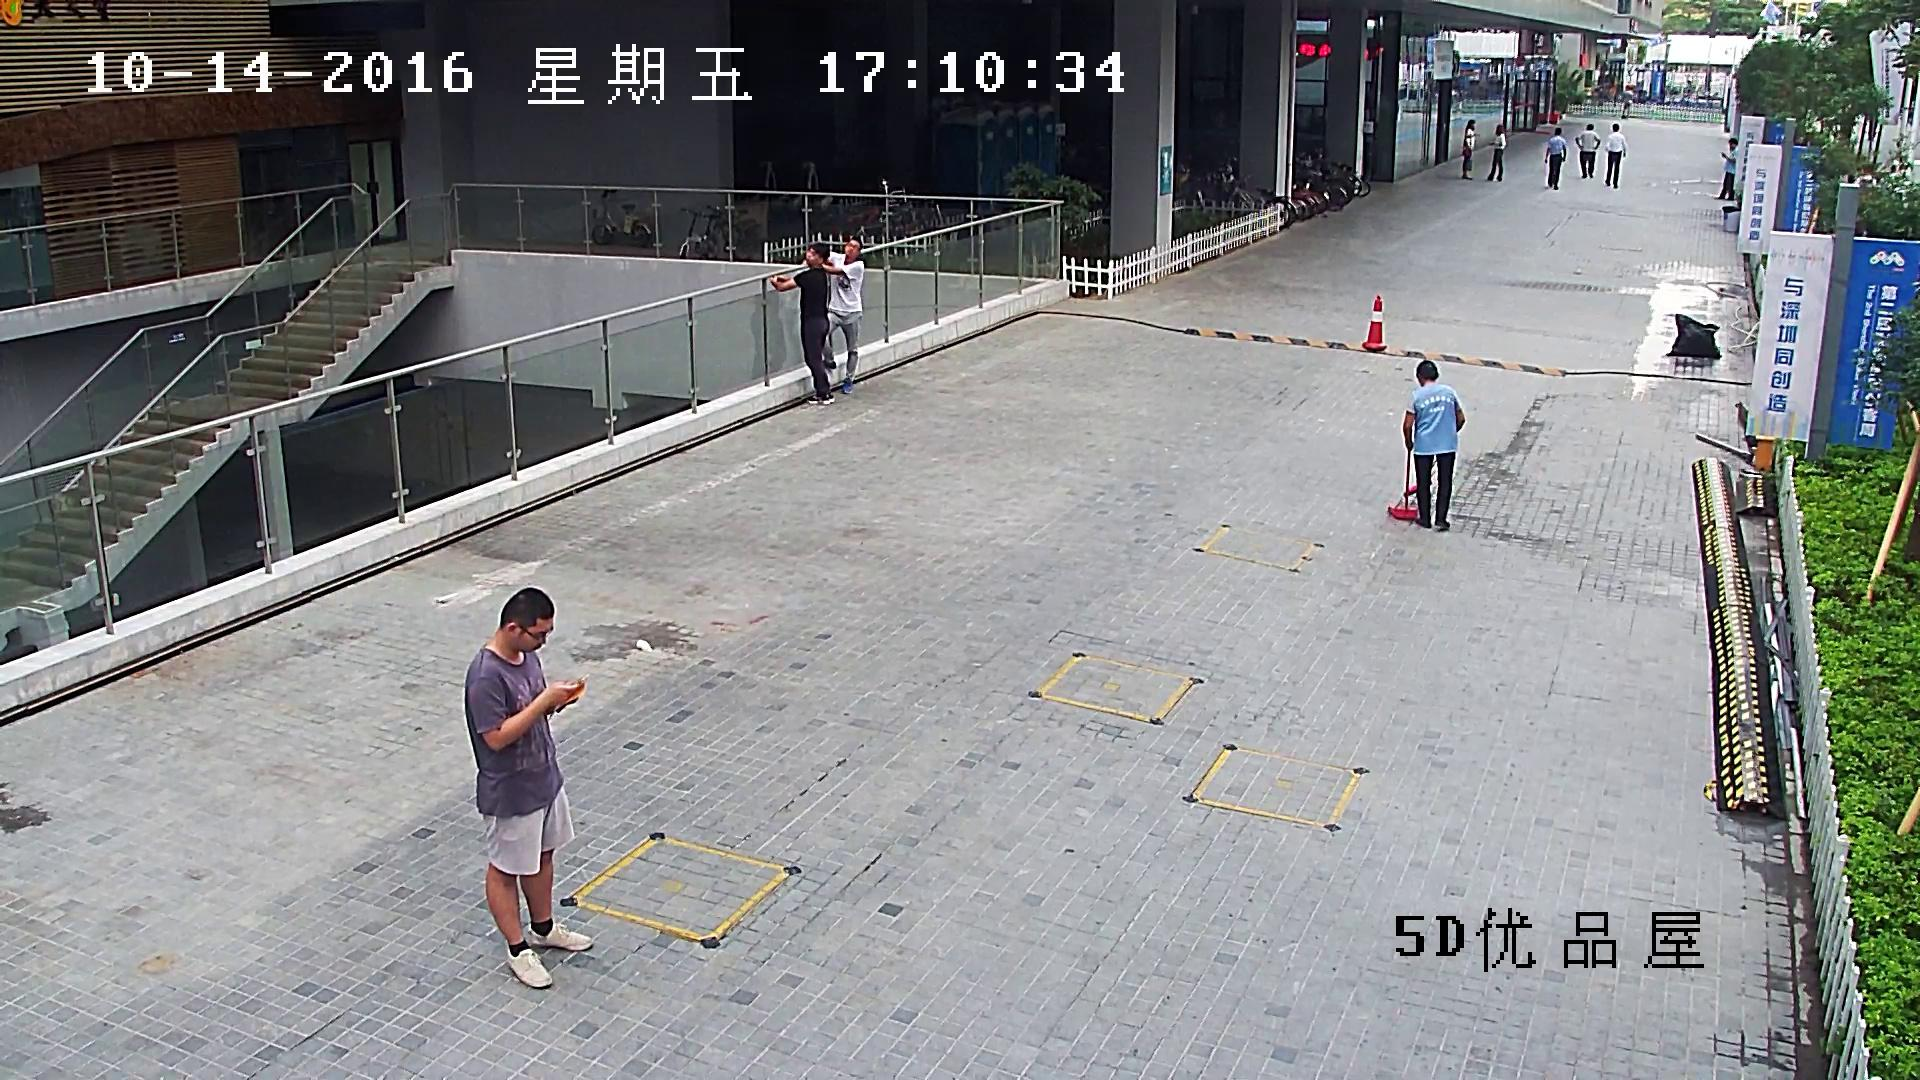person: (465, 587, 592, 989), (1388, 360, 1464, 530), (768, 243, 834, 404), (1402, 359, 1463, 530), (822, 237, 864, 394), (1604, 124, 1626, 188), (1575, 124, 1600, 178), (1545, 127, 1566, 189), (1717, 138, 1737, 200), (1486, 124, 1505, 181), (1461, 120, 1475, 180), (1621, 85, 1632, 119)
